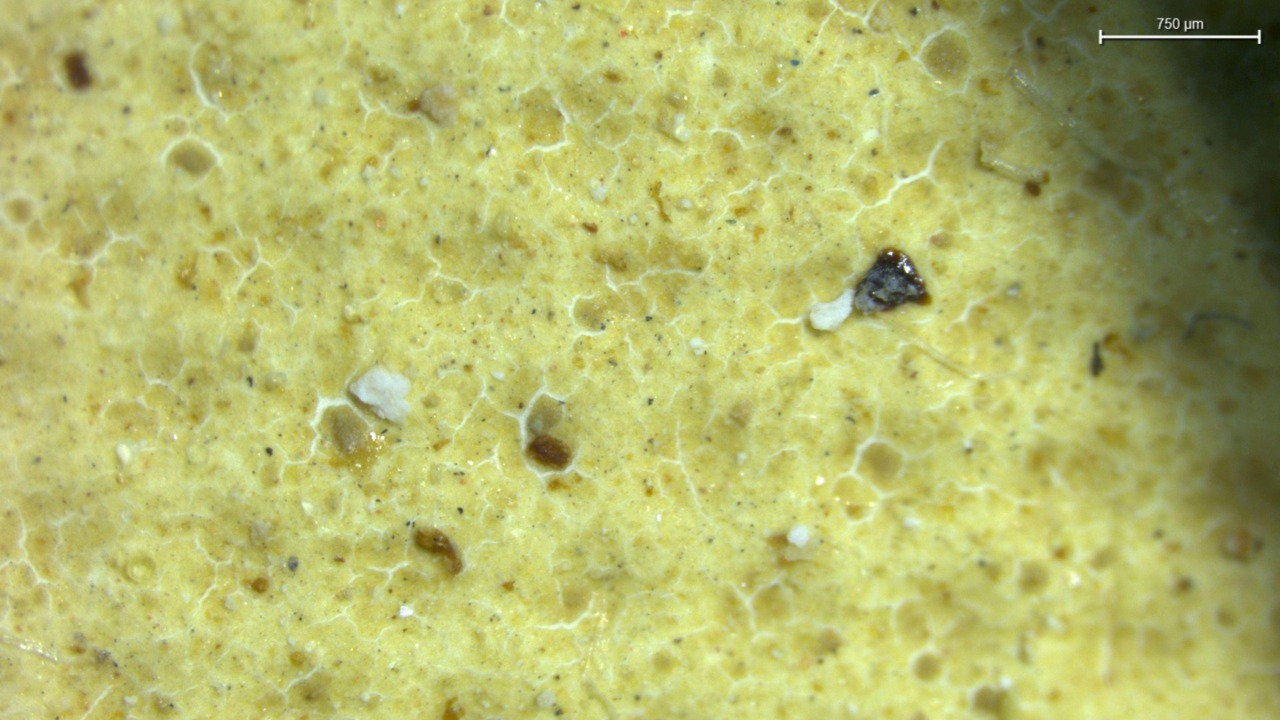microplastic_fragment: (854, 248, 928, 313), (349, 367, 411, 423), (810, 288, 853, 331)
